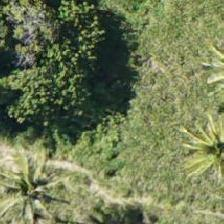coconut_tree: (0, 144, 69, 223), (168, 97, 223, 187)
